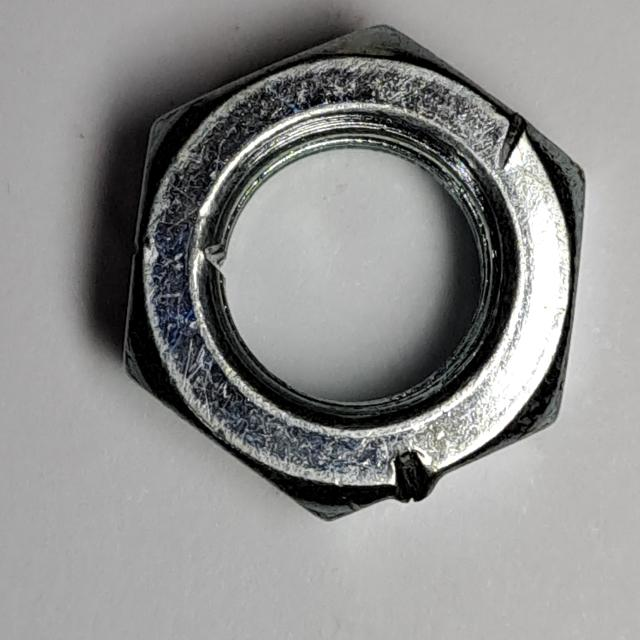Scratches: (117, 10, 595, 547)
